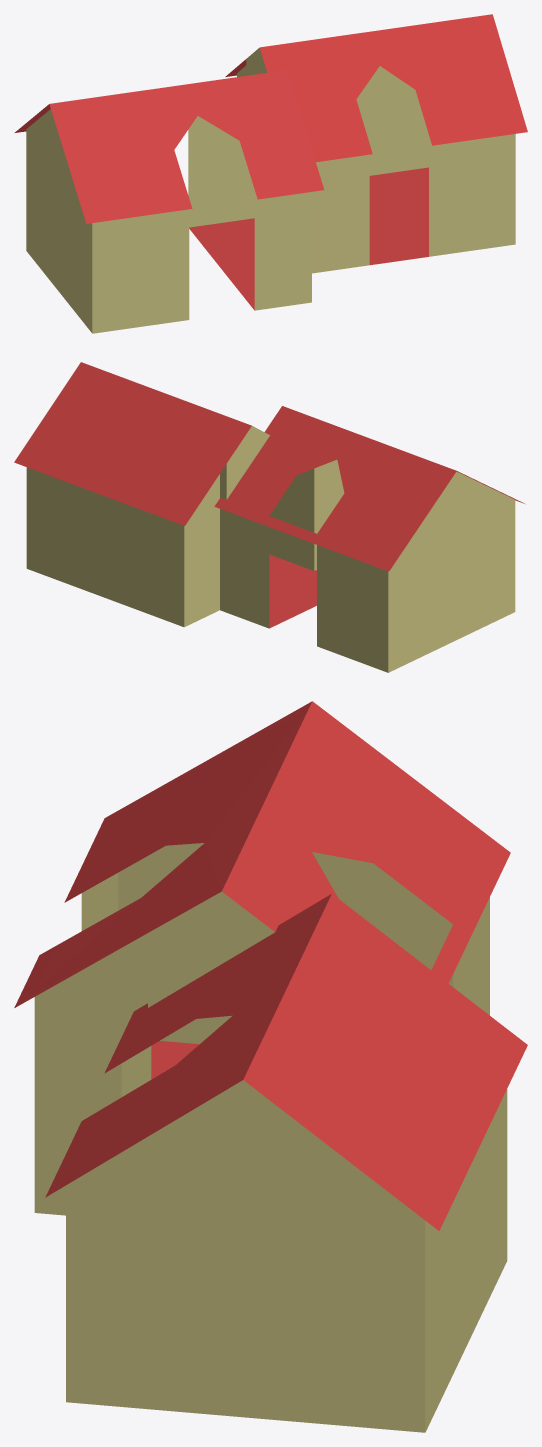
3 views of the same model, one above another, from view 1: azimuth 30°, elevation 25°; view 2: azimuth 150°, elevation 25°; view 3: azimuth 270°, elevation 25° (orthographic). The views are drawn at different scales.
Size of the model in its own units: 27.63 by 14.53 by 10.76.
